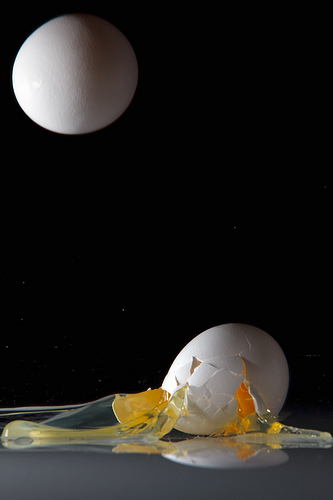egg: (1, 8, 141, 137), (157, 321, 286, 435)
